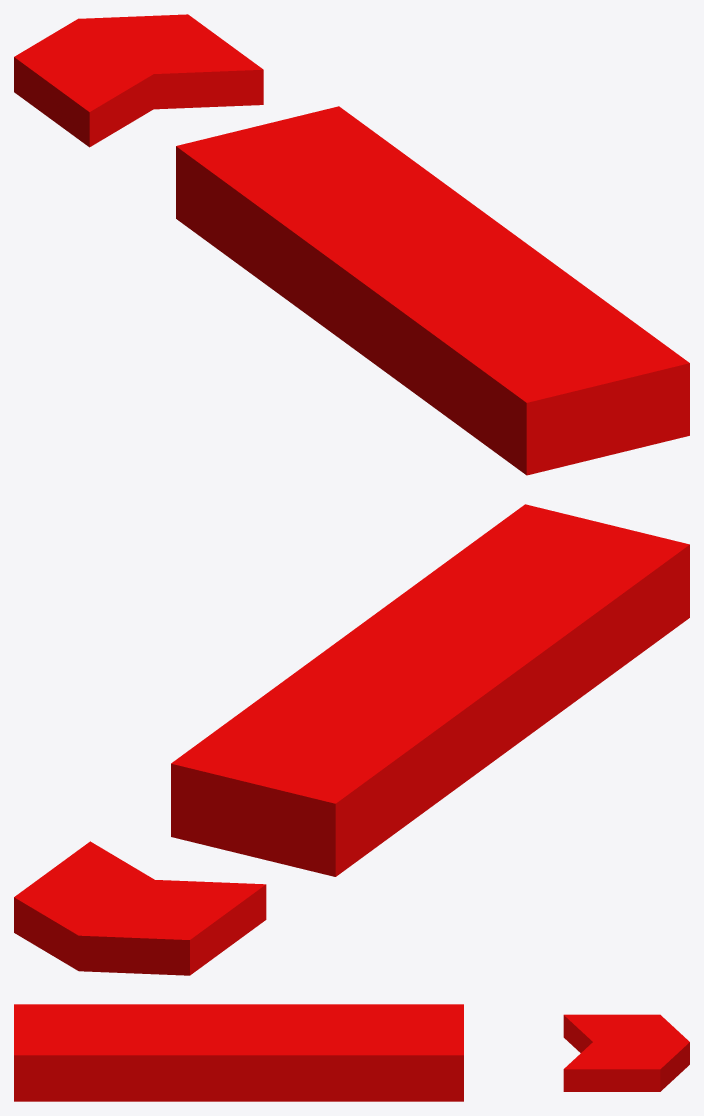
Rendered from utlityCupboard_02_airflow.glb.
3 views of the same model, one above another, from view 1: azimuth 30°, elevation 25°; view 2: azimuth 150°, elevation 25°; view 3: azimuth 270°, elevation 25° (orthographic). The views are drawn at different scales.
Parts seen in each view (by area): view 1: pCube2, flowA_00; view 2: pCube2, flowA_00; view 3: pCube2, flowA_00.
Boxes of the visible parts, x1,y1,x2,y2 form: pCube2: (176,106,689,475); flowA_00: (14,14,263,147); pCube2: (171,504,689,876); flowA_00: (14,841,266,975); pCube2: (14,1004,463,1101); flowA_00: (563,1014,689,1091).
Bounding box in the file's own units: 0.1838 × 0.0732 × 0.9628.
